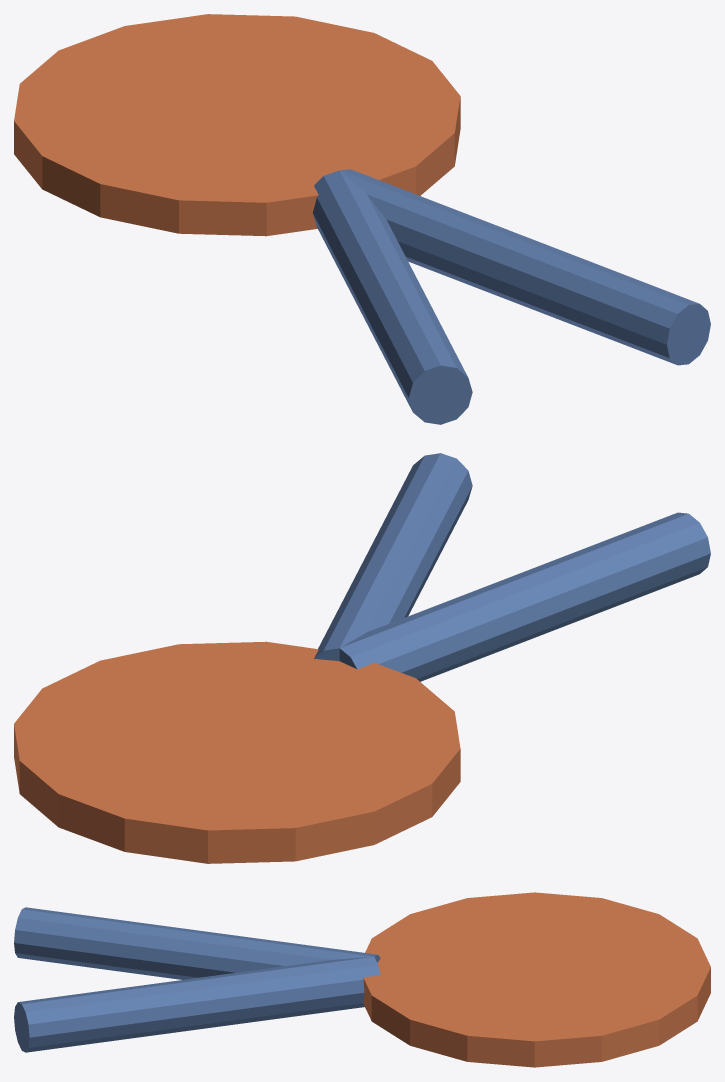
3 renders of one model, top to bottom at view 1: azimuth 30°, elevation 25°; view 2: azimuth 150°, elevation 25°; view 3: azimuth 270°, elevation 25°, orthographic. The views are drawn at different scales.
Visible parts, largest first — view 1: geometry_0; view 2: geometry_0; view 3: geometry_0.
Boxes of the visible parts, box(x1,y1,x2,y2) form: geometry_0: box(14, 14, 710, 424); geometry_0: box(14, 453, 710, 863); geometry_0: box(14, 892, 710, 1067).
Size of the model in its own units: 0.11 by 0.02 by 0.2174.
